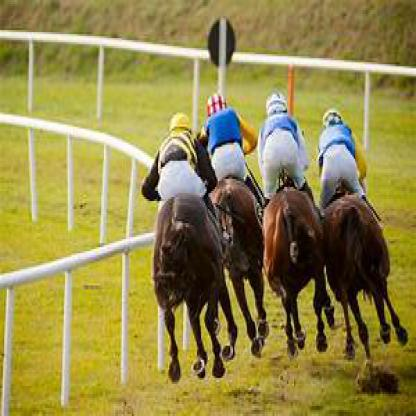horse: (322, 193, 412, 362), (150, 197, 224, 380), (265, 193, 334, 364), (220, 181, 272, 350)
